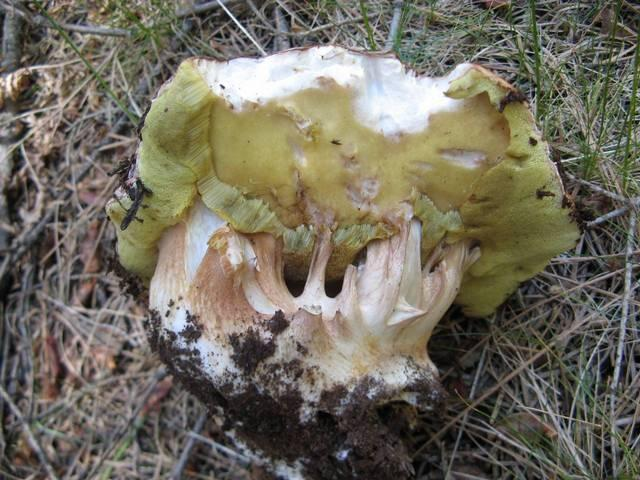edible_mushroom: (104, 43, 580, 479)
